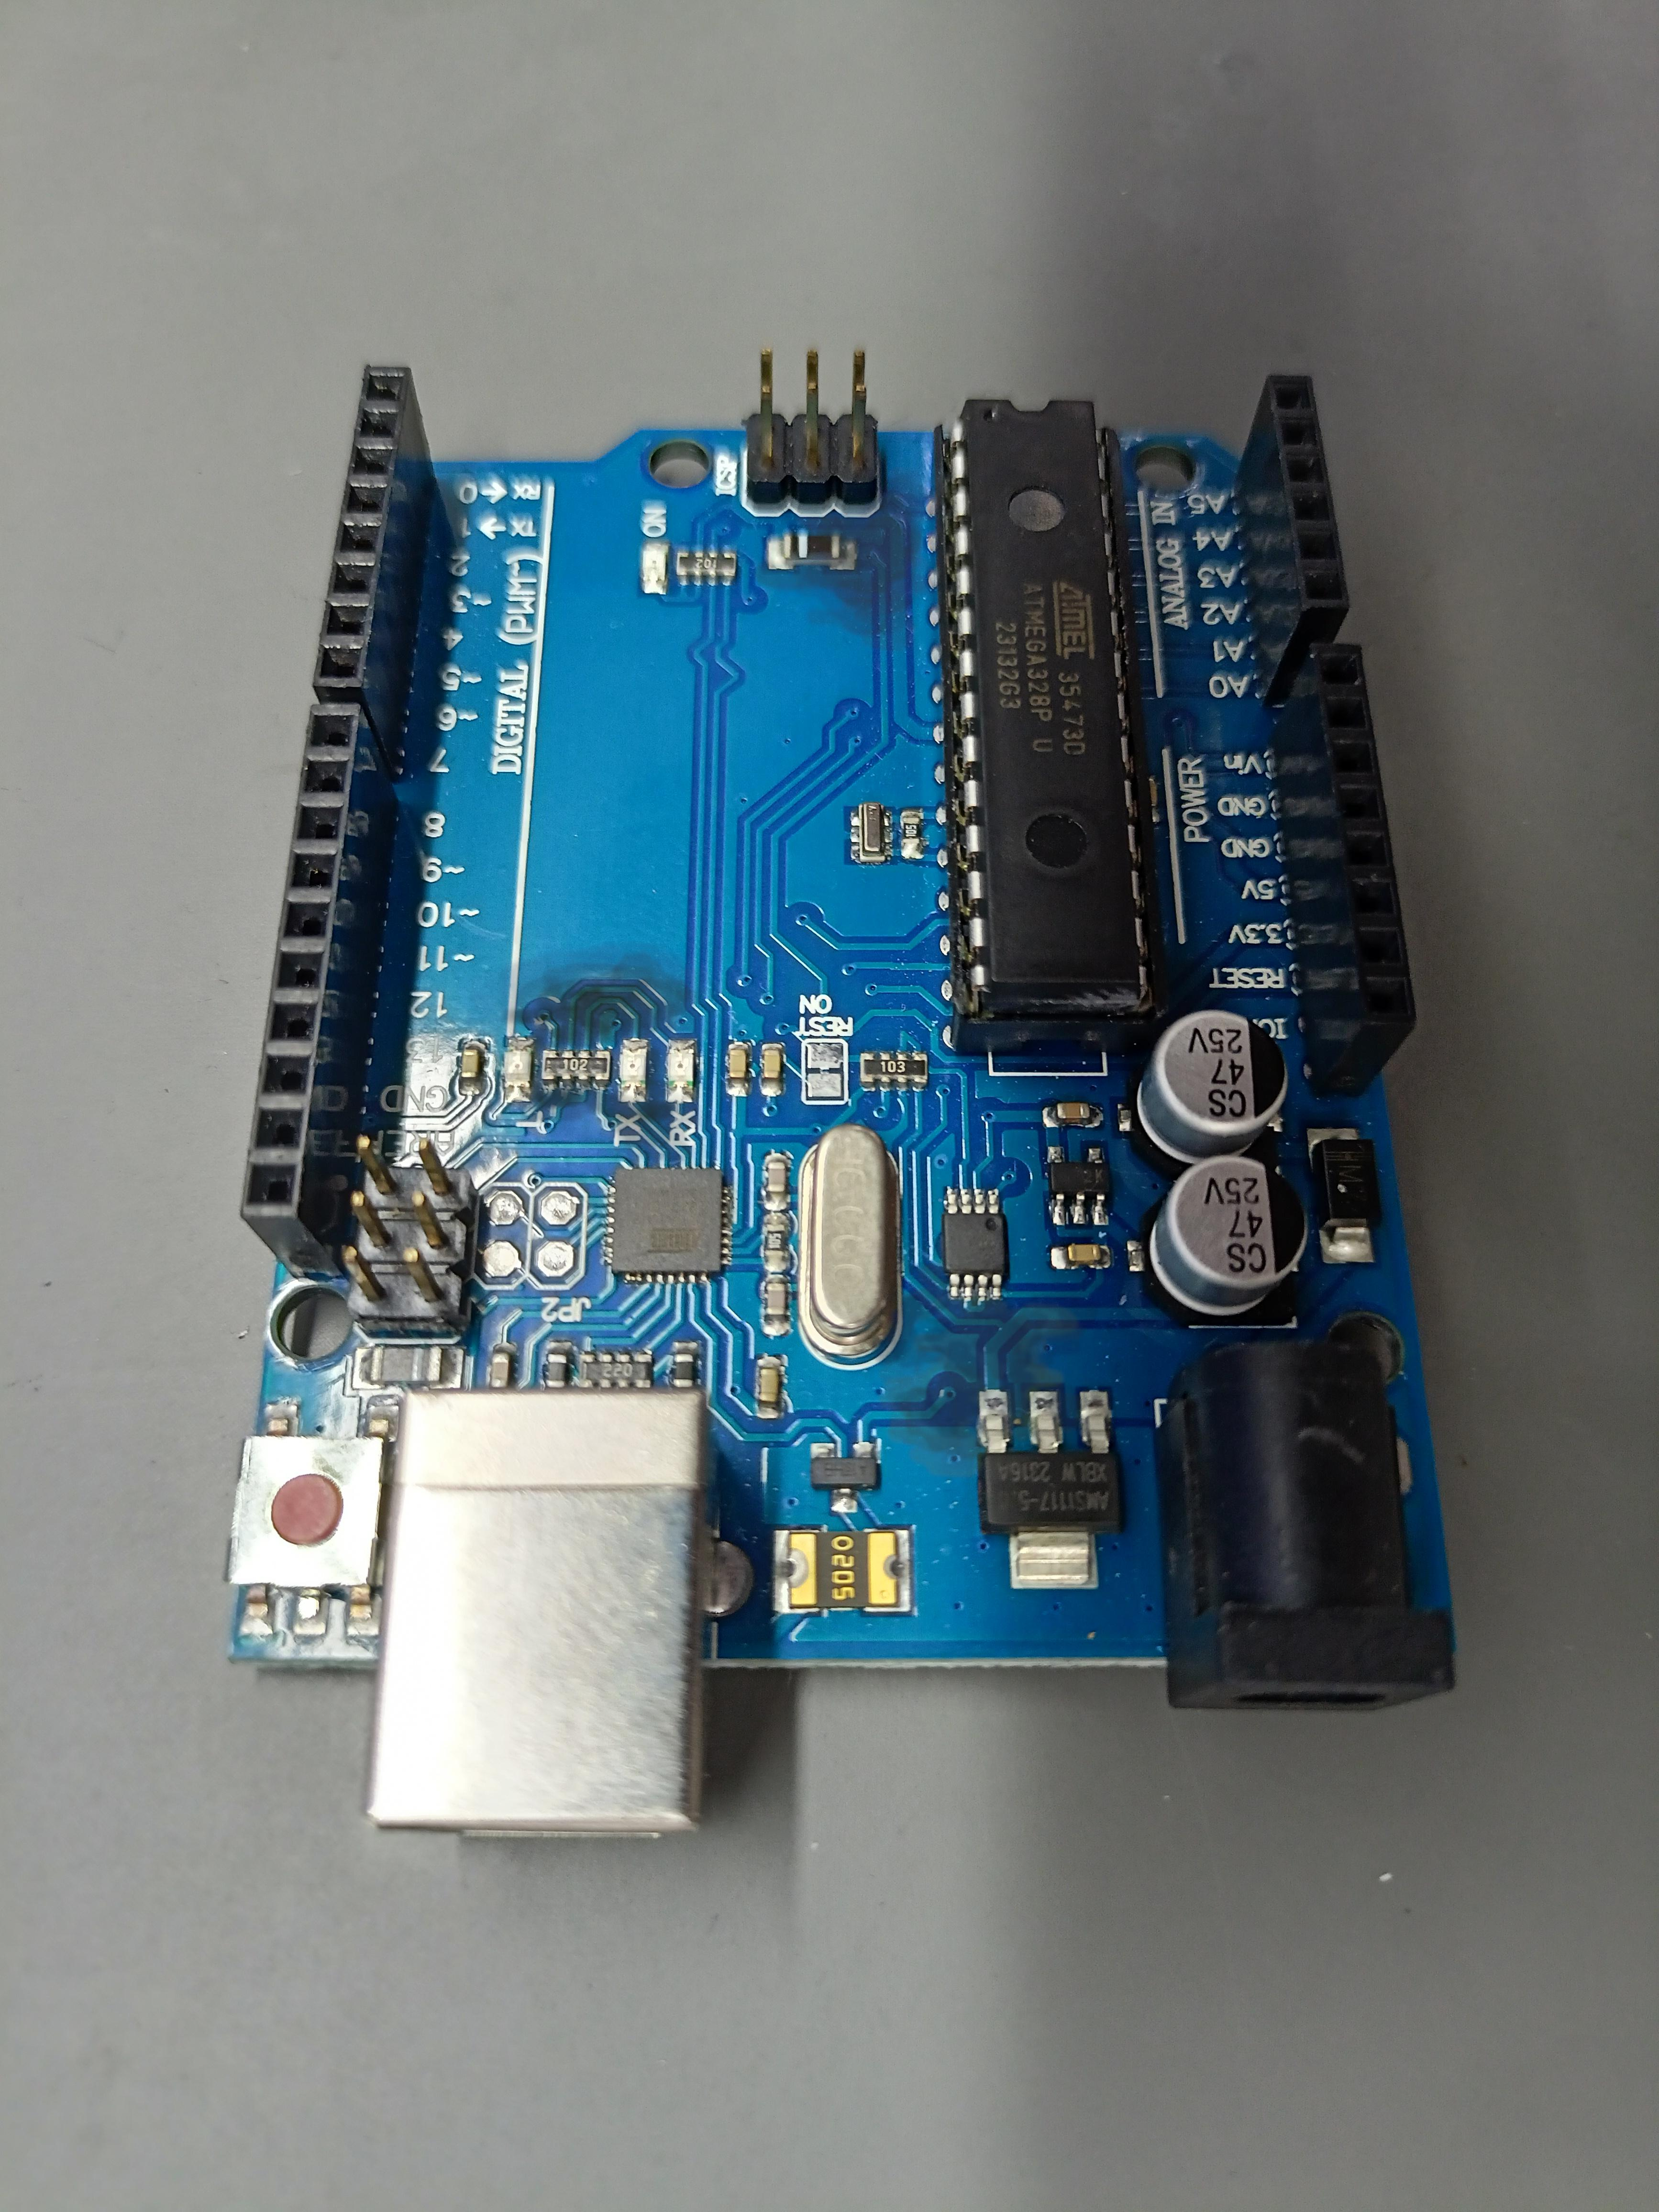ATmega328 chip: (934, 401, 1169, 1054)
Arduino board: (223, 348, 1457, 1839)
Overheat: (875, 1266, 1098, 1472), (502, 941, 690, 1158), (756, 489, 924, 646)
USB: (364, 1386, 718, 1839)
capacitor: (1141, 1155, 1307, 1325), (1127, 1010, 1288, 1179)
pins: (240, 704, 399, 1277), (1269, 643, 1417, 1097), (312, 364, 436, 784), (1234, 374, 1351, 707)
resistor: (579, 1352, 653, 1386), (542, 1050, 610, 1085), (861, 1052, 927, 1087), (676, 552, 737, 580)
